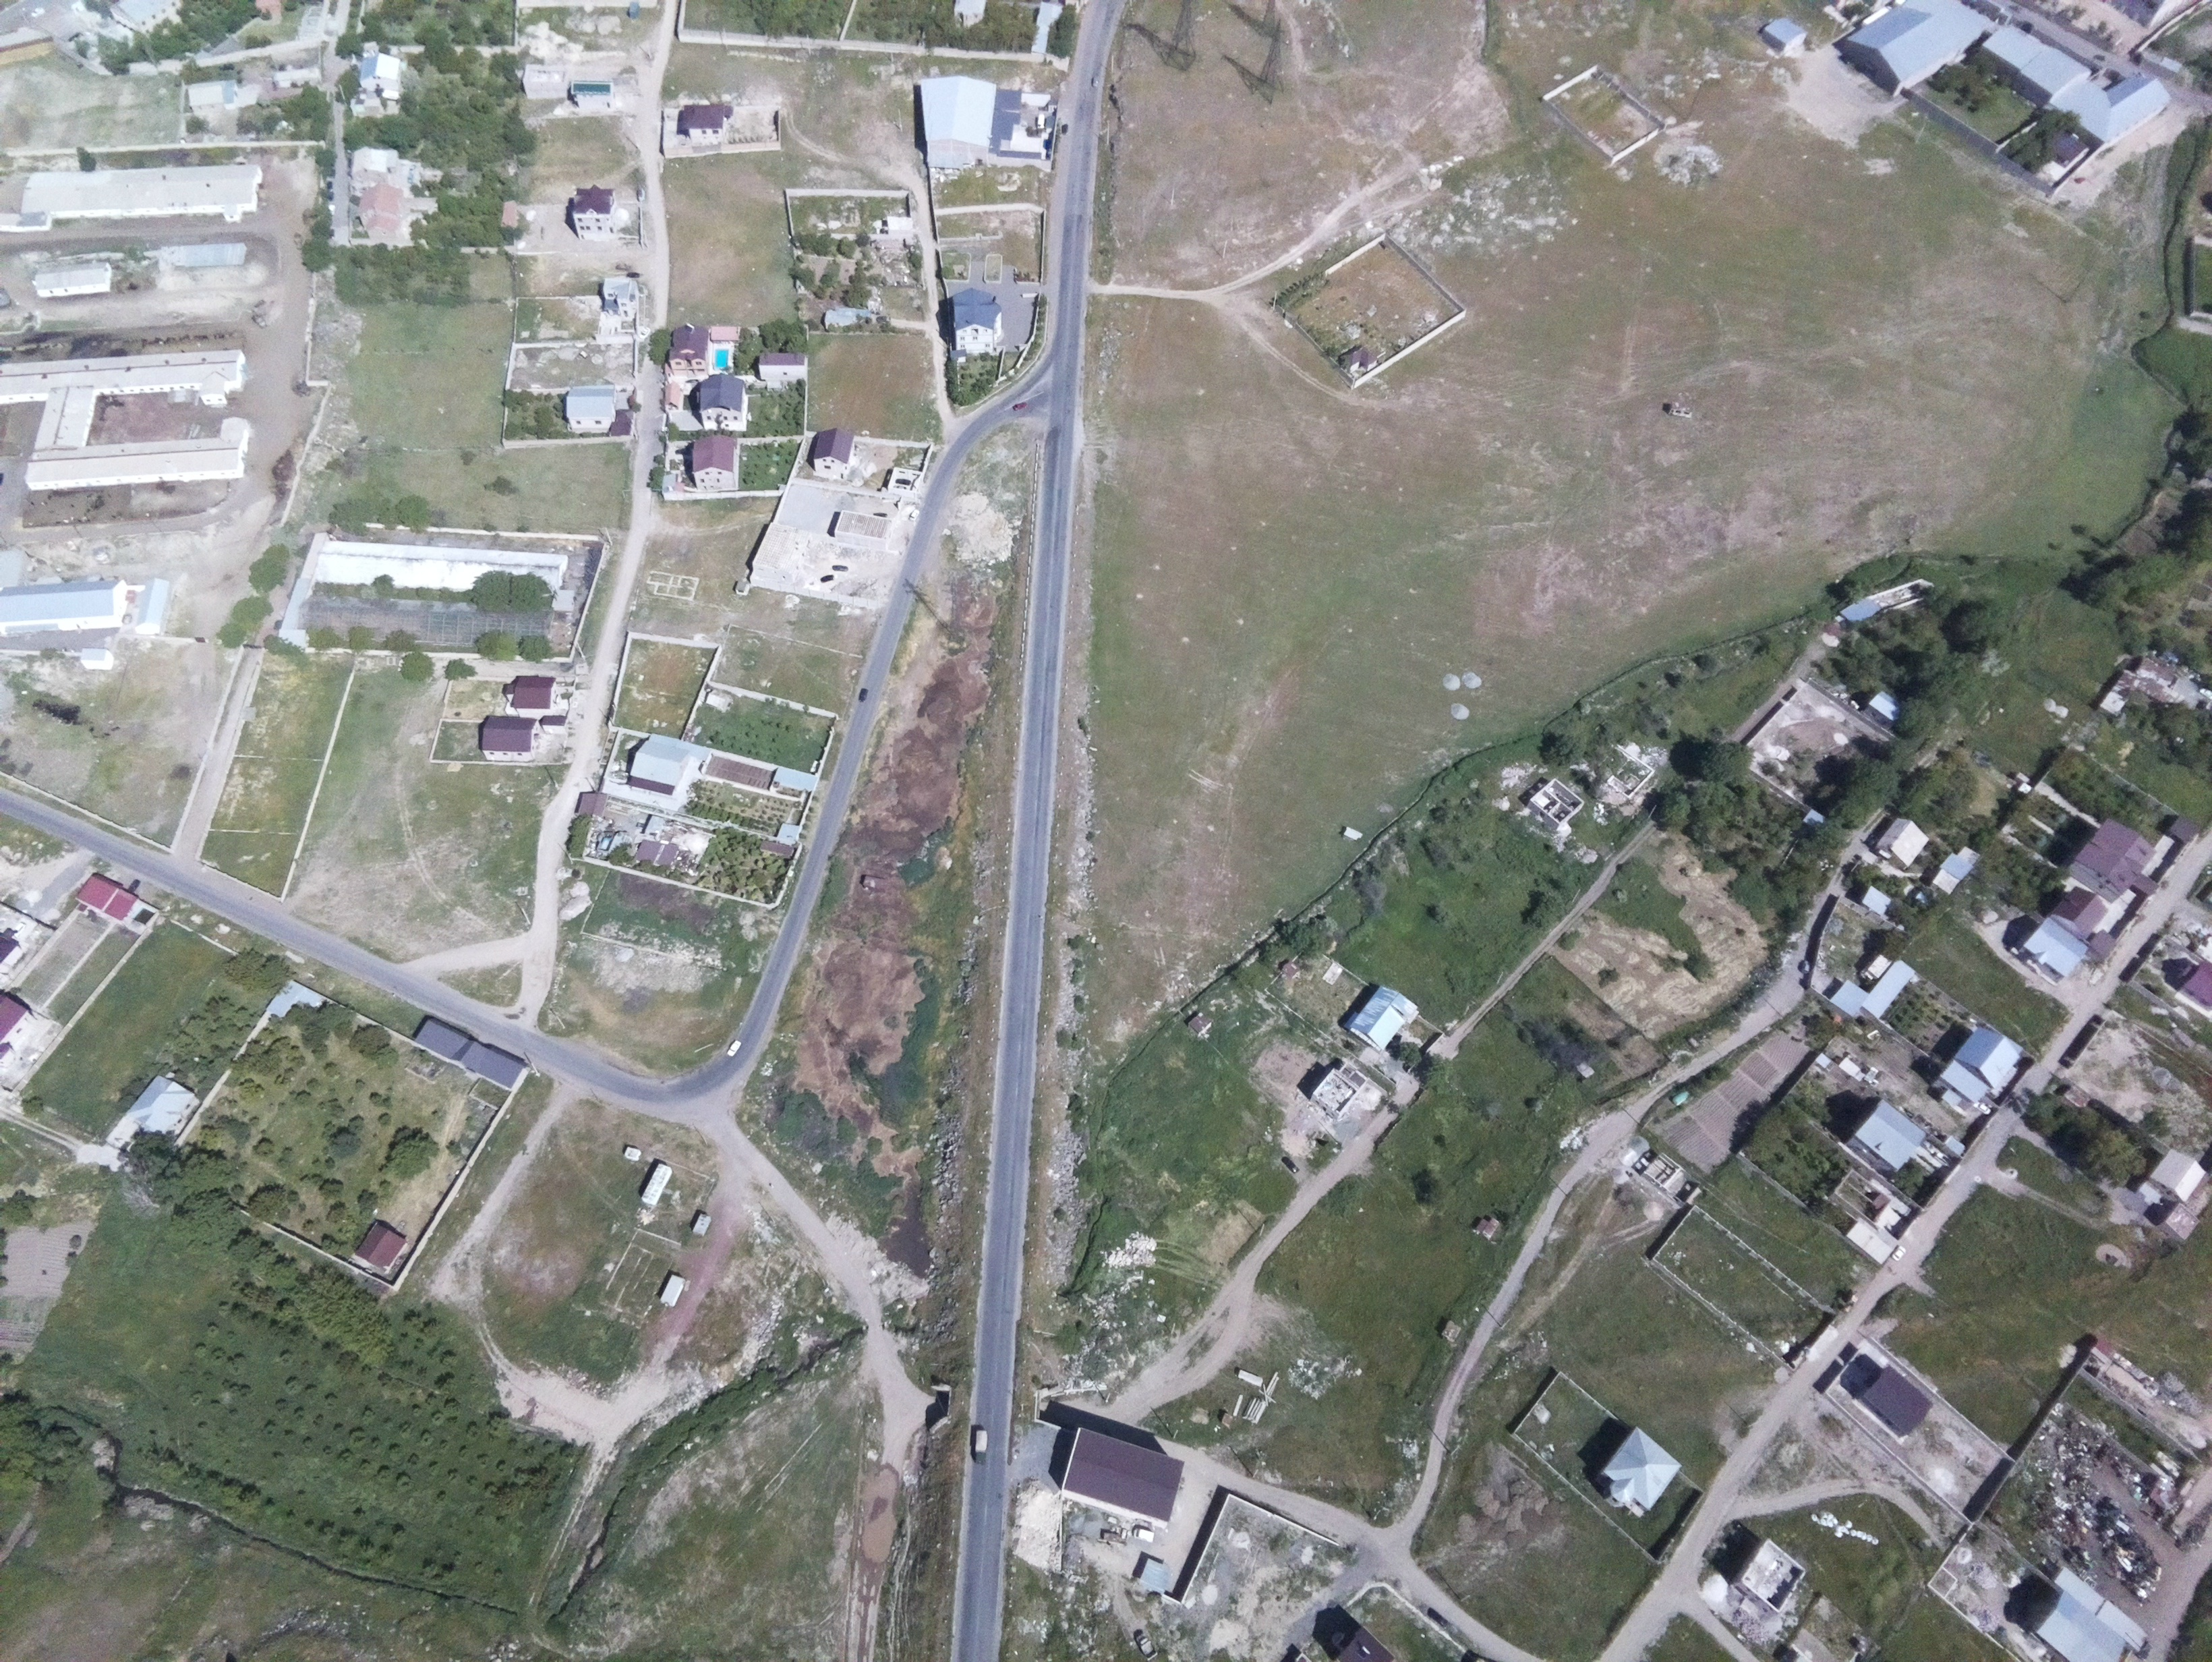car: (1130, 1519, 1158, 1545), (726, 1035, 749, 1061), (1889, 1240, 1910, 1266), (1973, 1098, 1996, 1119), (908, 505, 925, 525), (1007, 400, 1032, 414), (857, 686, 869, 707)
truck: (964, 1414, 999, 1468)
